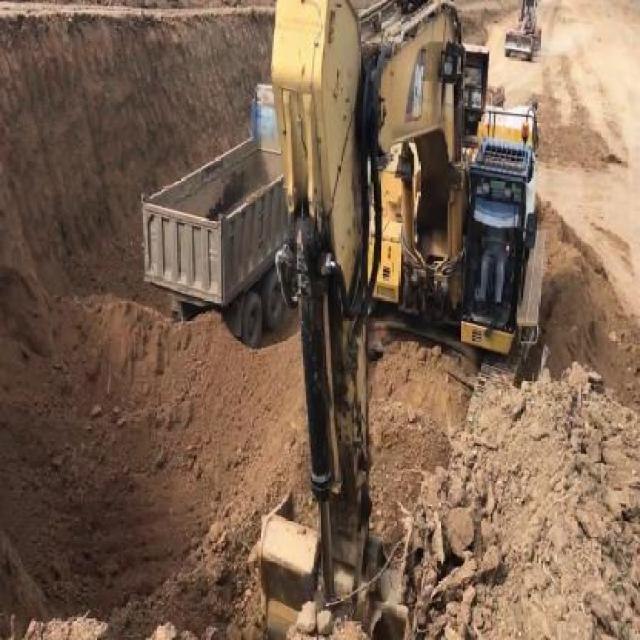Dump Truck: (139, 69, 296, 345)
Excavator: (255, 0, 541, 638)
